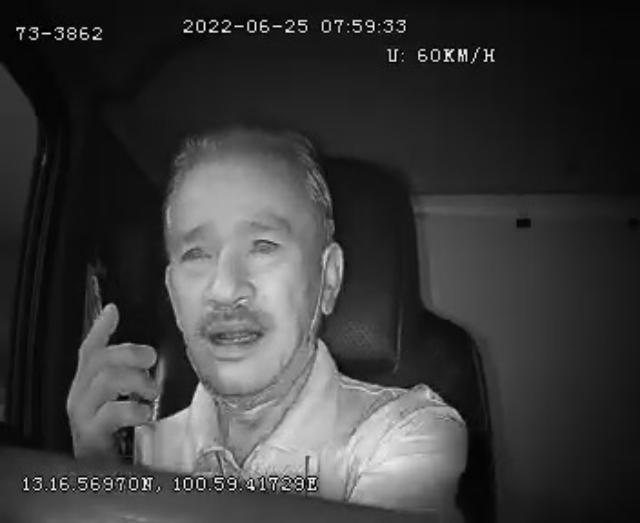PhoneUse: (79, 262, 137, 468)
SafeDriving: (173, 230, 220, 272), (242, 224, 288, 262)
